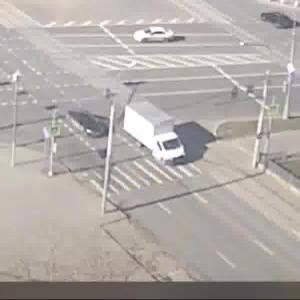car: (123, 104, 190, 162), (69, 108, 118, 140), (133, 26, 183, 52), (262, 8, 300, 35)
